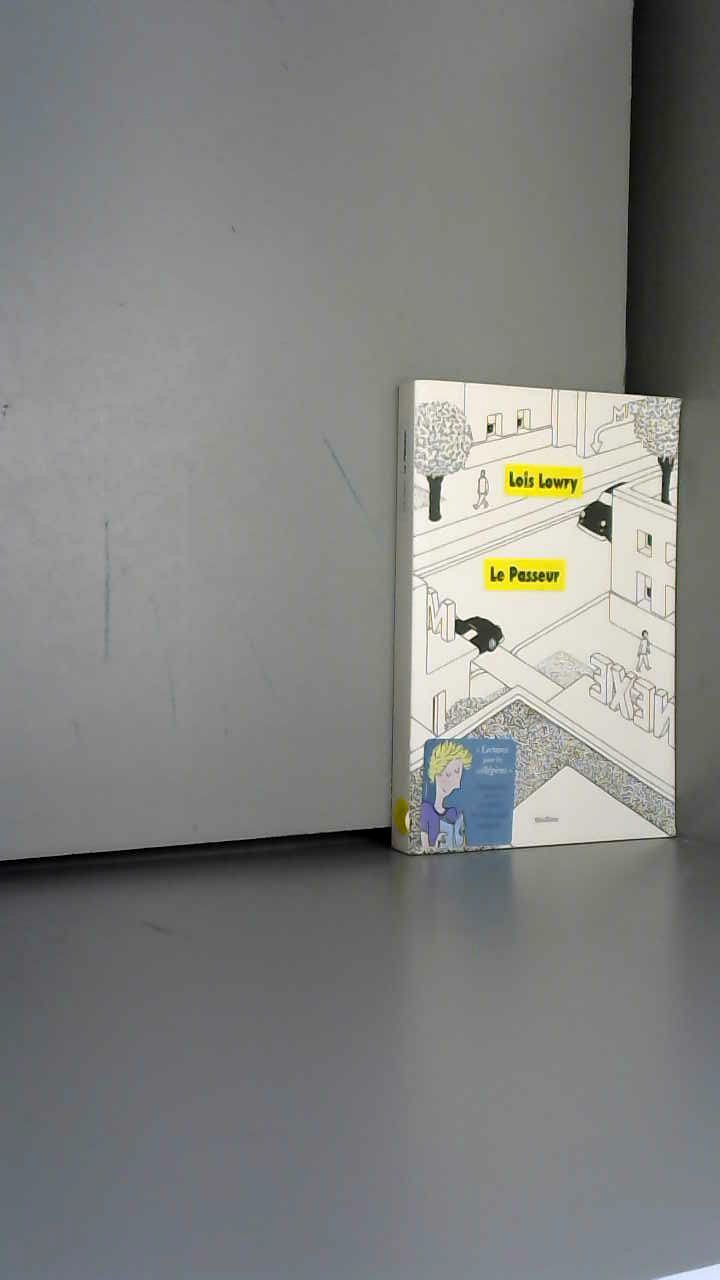book: (380, 350, 717, 898)
